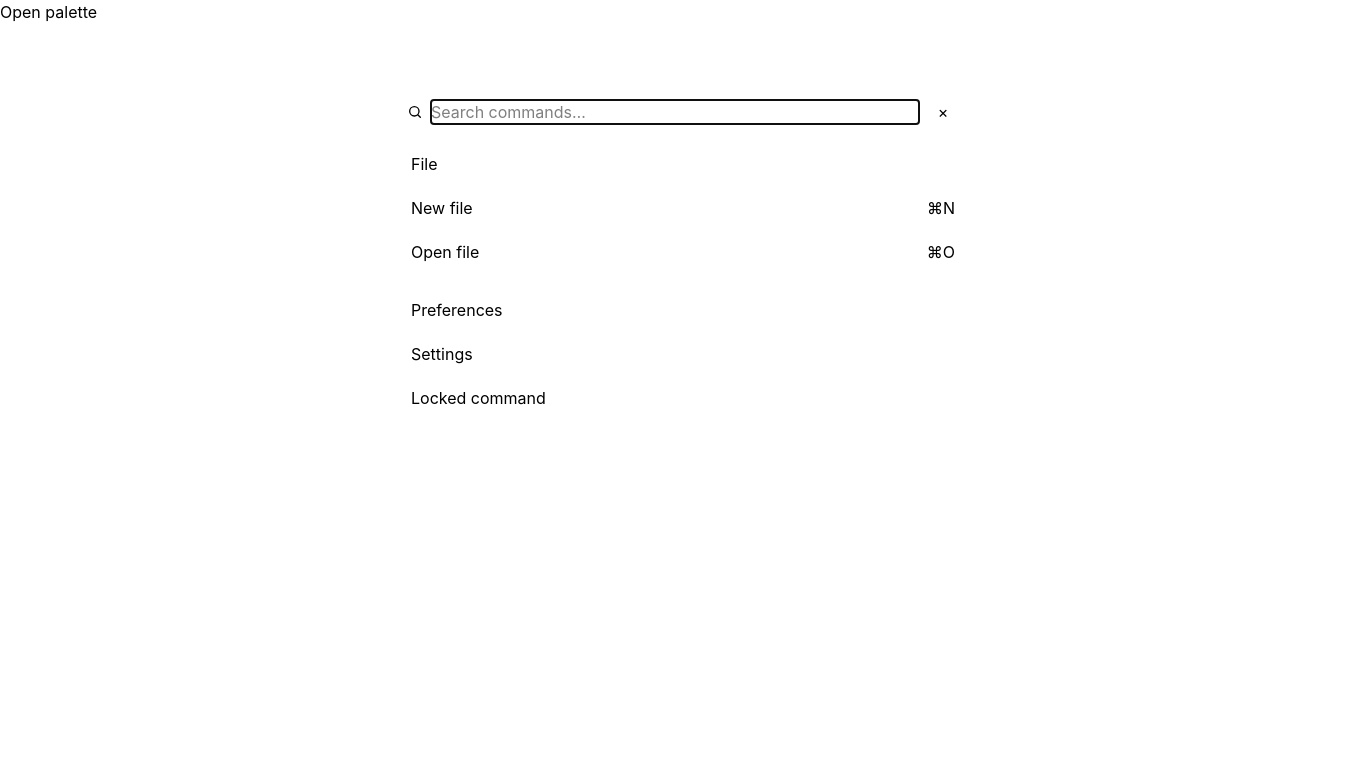
Test: CommandPalette › runs a clicked command exactly once and closes
expect the dropdown is shown: met, box [431,100,919,124]
Click the option "Open file ⌘O" at [445, 252], box [411,242,955,262]
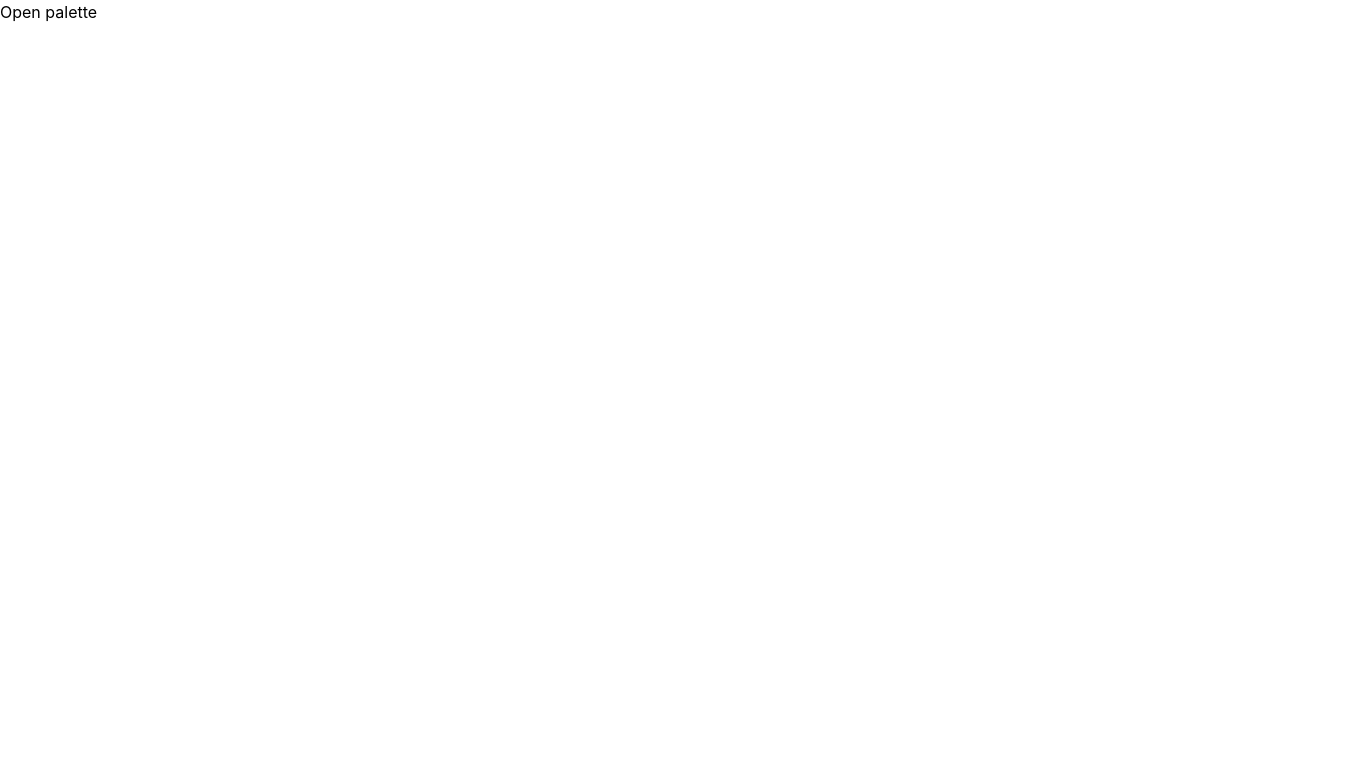
expect the dialog is gone: met
